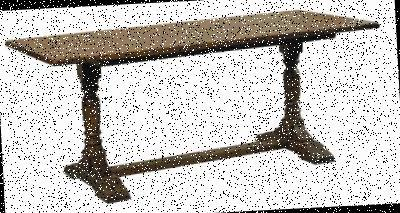Mesa: (6, 7, 390, 204)
